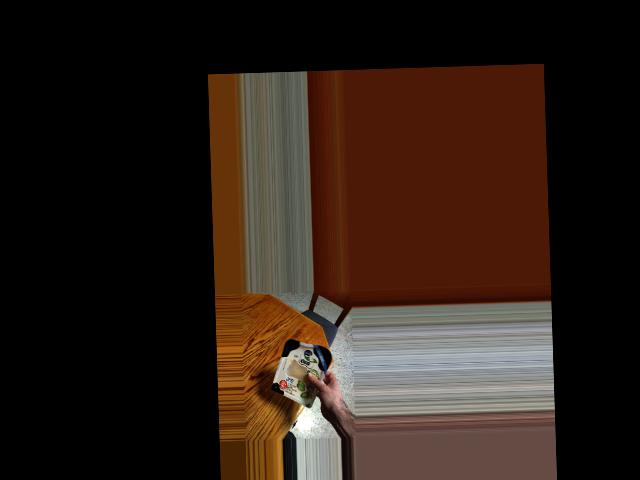cheese: (272, 335, 330, 397)
